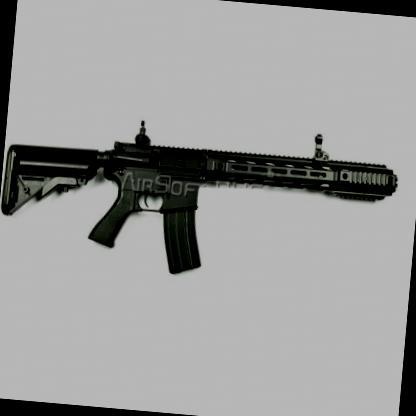rifle: (0, 110, 398, 316)
